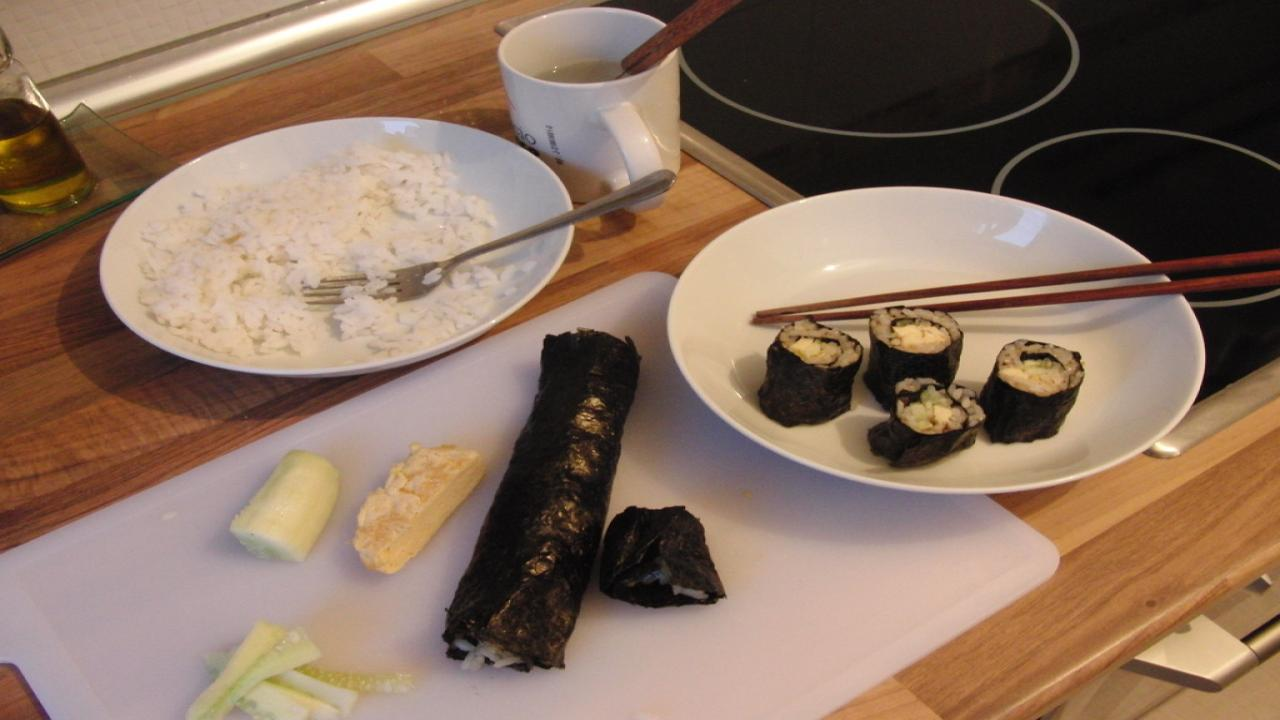chopstick: (755, 248, 1280, 325)
fork: (326, 171, 676, 301)
